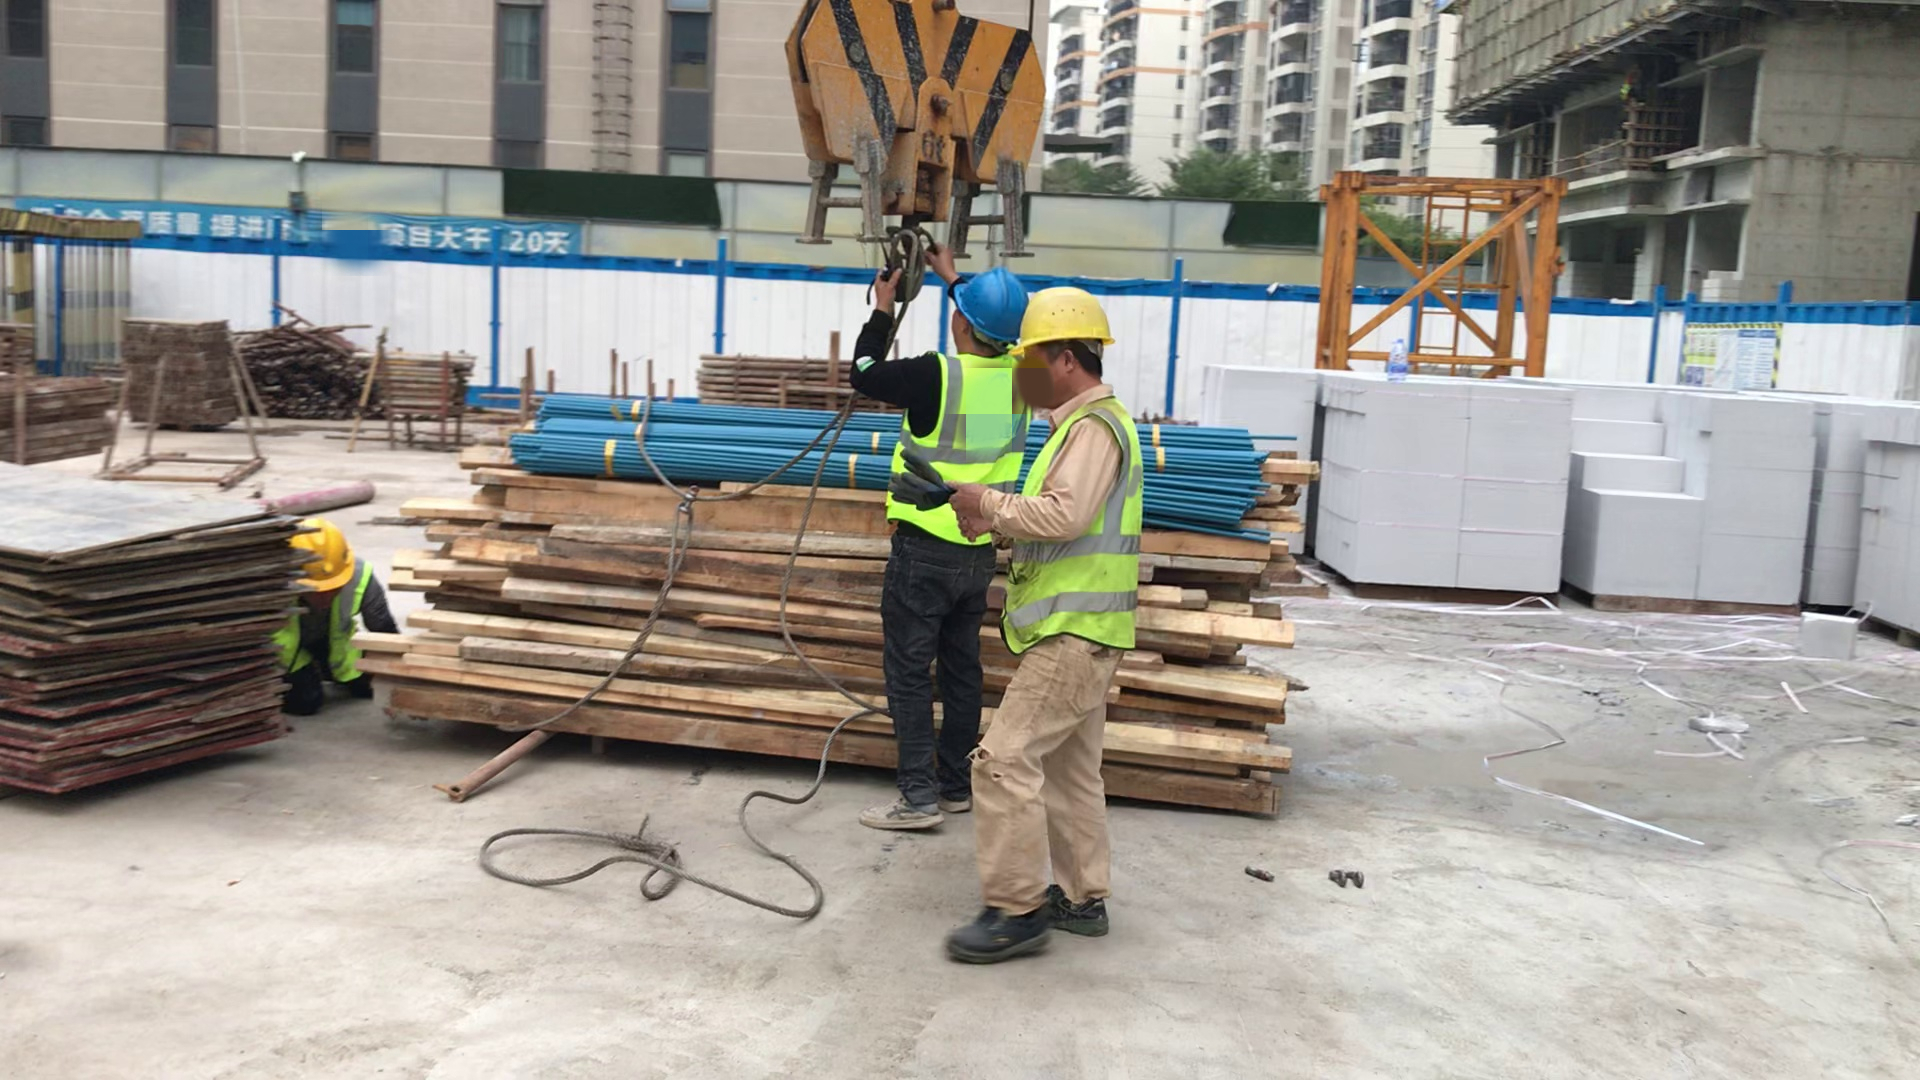board: (1, 491, 299, 798)
brick: (1229, 363, 1920, 639)
helmet: (1018, 284, 1119, 358), (951, 262, 1021, 336), (290, 519, 353, 594)
hook: (768, 1, 1070, 285)
person: (972, 283, 1149, 965), (858, 266, 1022, 836), (286, 501, 388, 712)
scaffold: (241, 322, 375, 423), (118, 311, 229, 427), (693, 347, 891, 412), (1, 371, 107, 466), (378, 346, 472, 427)
slogan: (28, 190, 584, 264)
vest: (1007, 411, 1140, 662), (889, 349, 1020, 539), (328, 568, 371, 691)
wood: (427, 437, 1300, 823)
